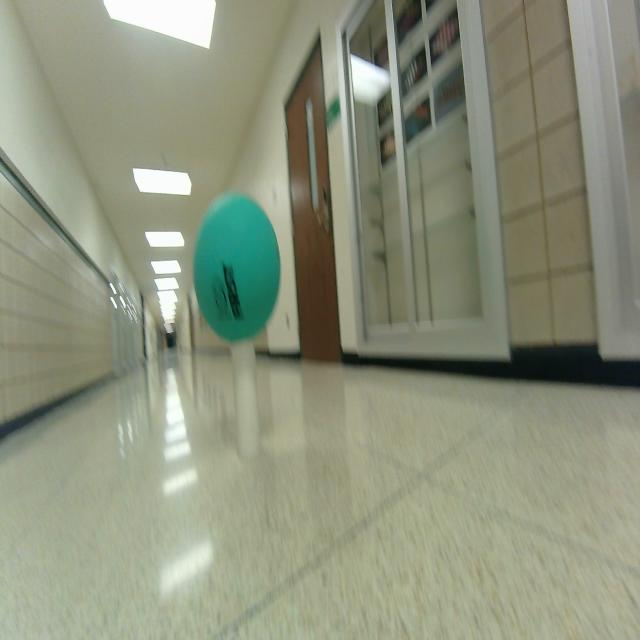algae: (193, 191, 281, 344)
coral: (229, 338, 260, 459)
